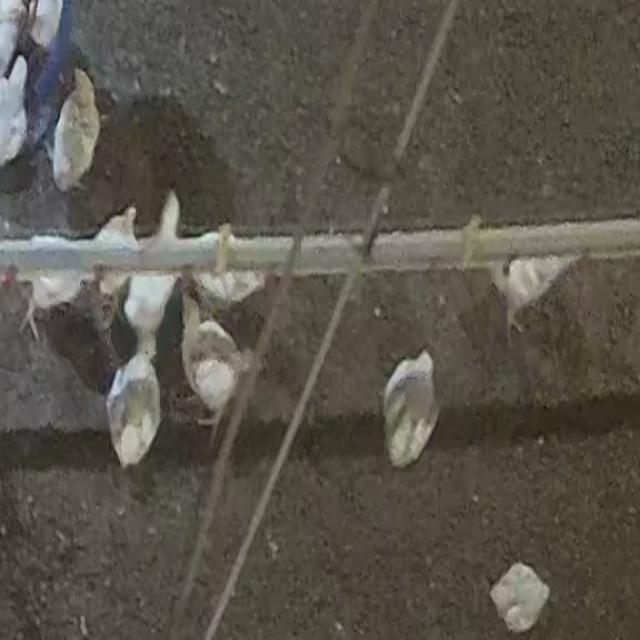chicken: (172, 292, 251, 430), (125, 190, 183, 329), (109, 325, 162, 469), (490, 255, 575, 338), (192, 226, 268, 316), (383, 351, 440, 463), (86, 204, 140, 312), (53, 67, 100, 188), (490, 561, 550, 633), (0, 55, 31, 167)
